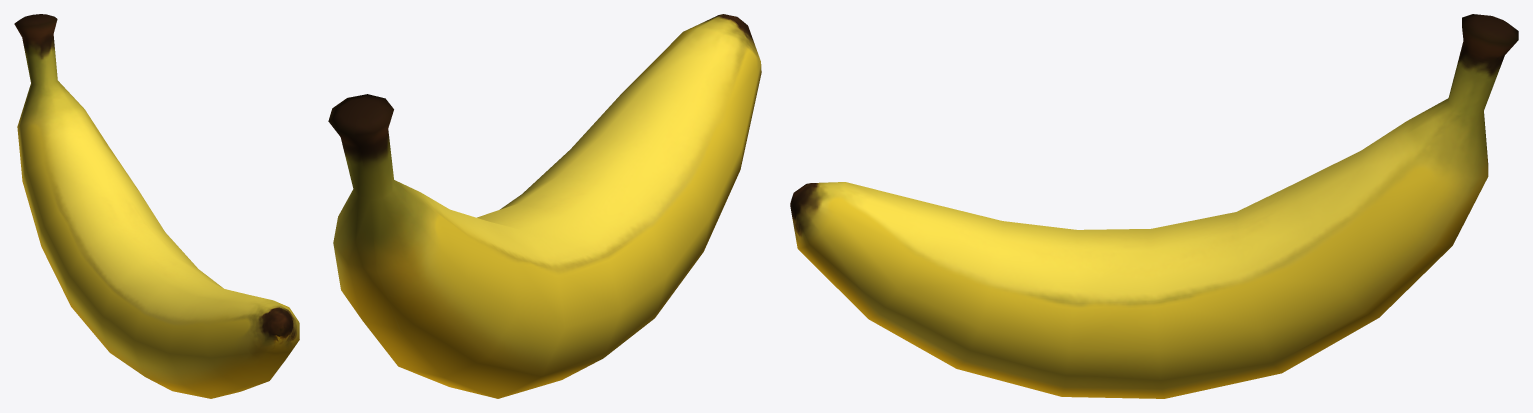
File: 002-Banana.FBX
3 views of the same model, side by side, from view 1: azimuth 30°, elevation 25°; view 2: azimuth 150°, elevation 25°; view 3: azimuth 270°, elevation 25° (orthographic). The views are drawn at different scales.
Parts seen in each view (by area): view 1: 002-Banana; view 2: 002-Banana; view 3: 002-Banana.
Boxes of the visible parts, x1,y1,x2,y2 form: 002-Banana: [14, 14, 299, 398]; 002-Banana: [328, 14, 761, 398]; 002-Banana: [790, 14, 1518, 398].
Size of the model in its own units: 5.98 by 14.12 by 25.33.
